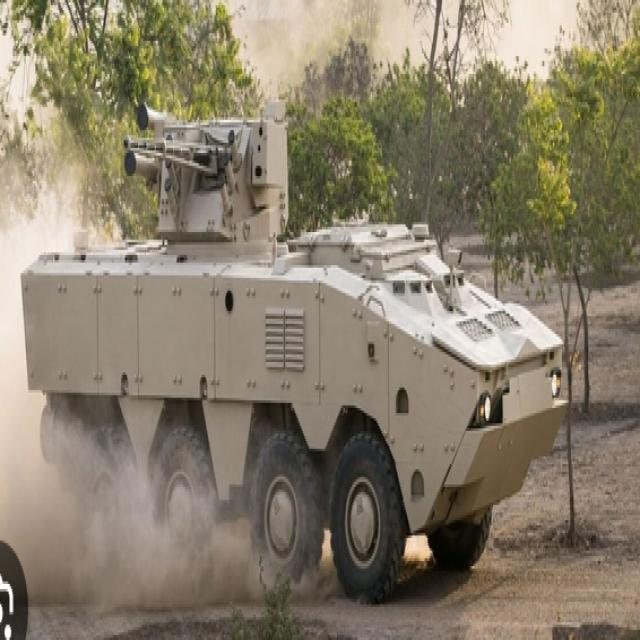MIL_APC: (23, 77, 572, 593)
